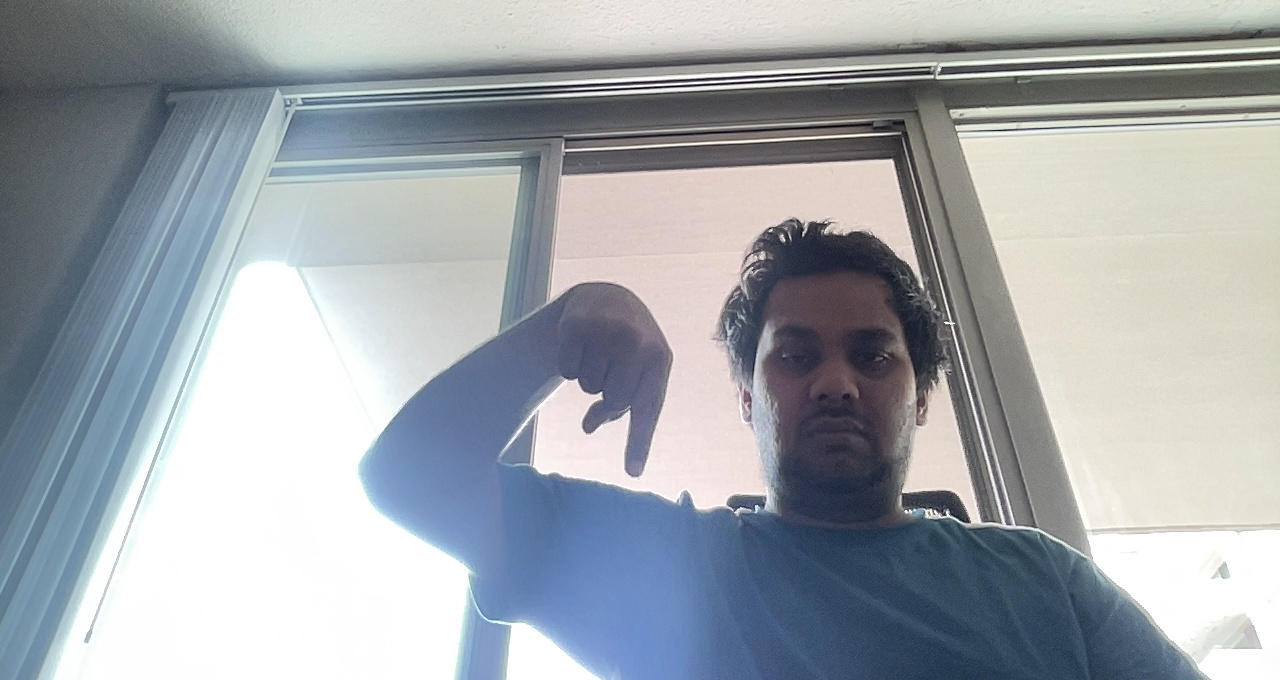fingerdown: (551, 277, 677, 478)
